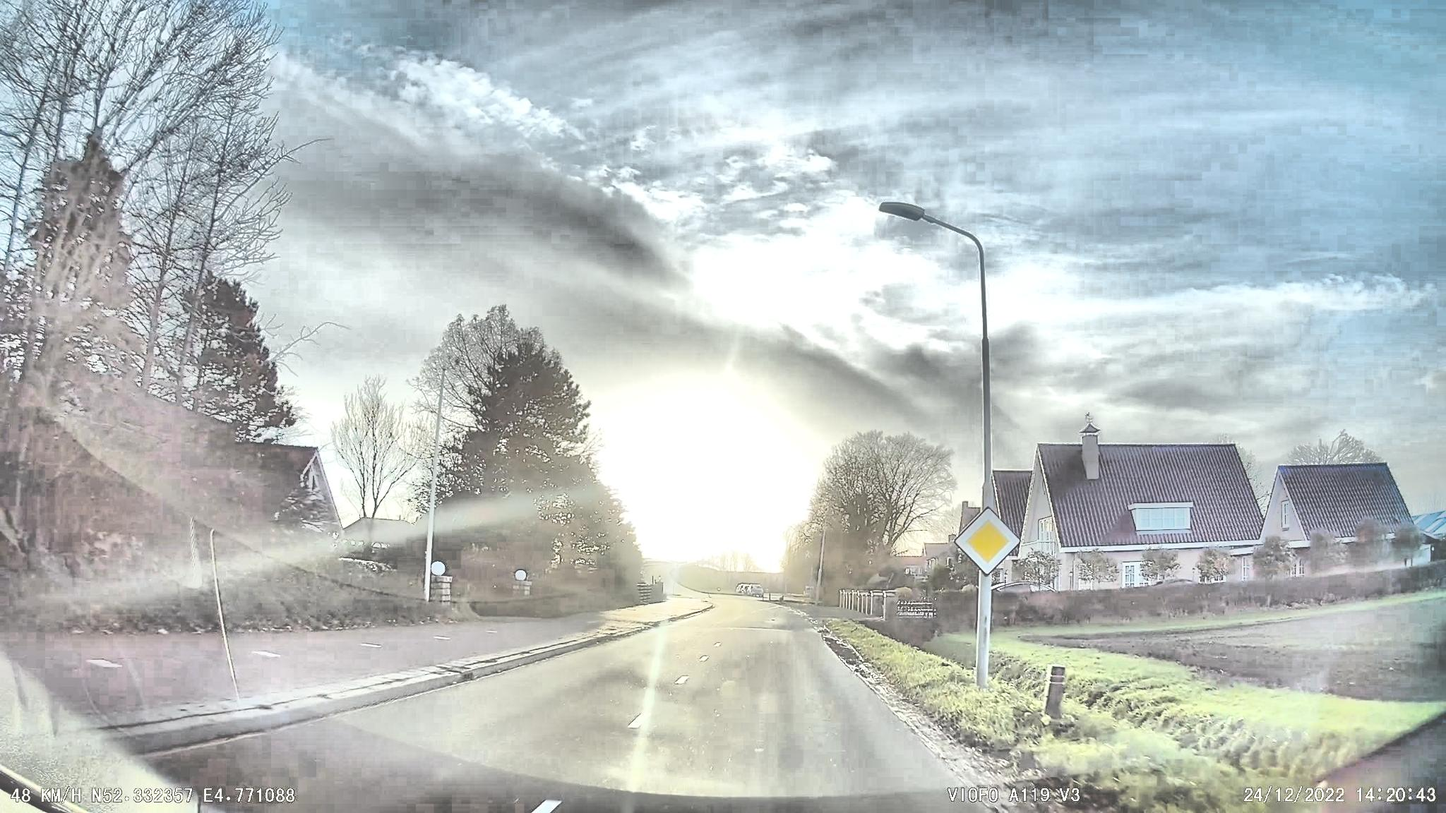Roads: (124, 597, 1005, 813)
